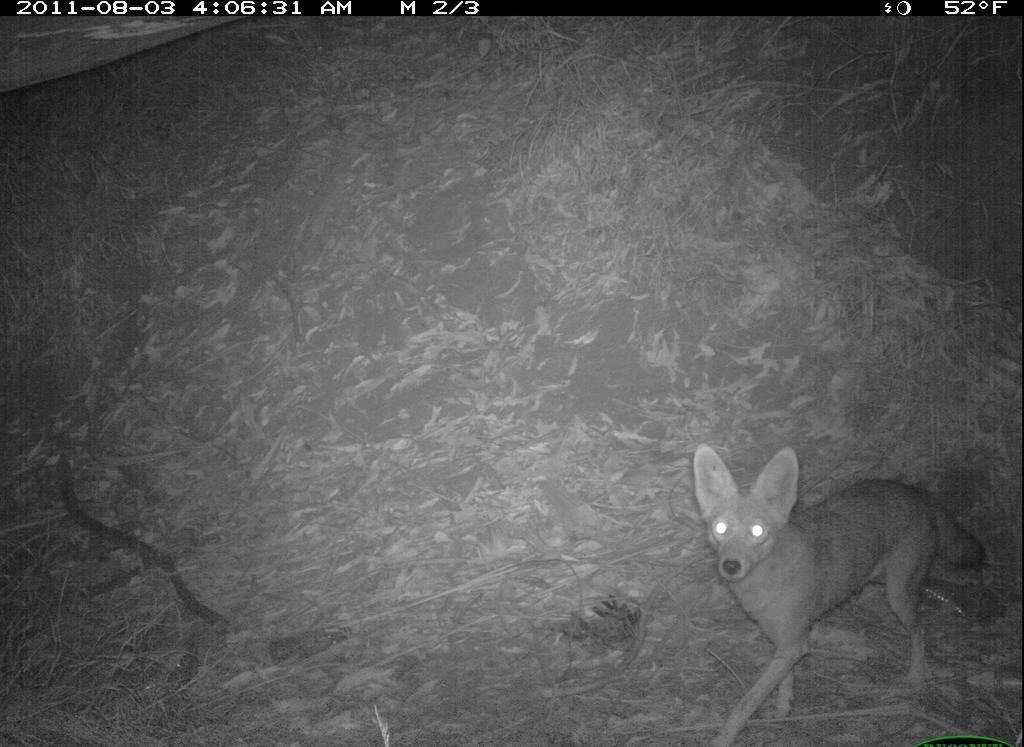coyote: (684, 445, 993, 745)
